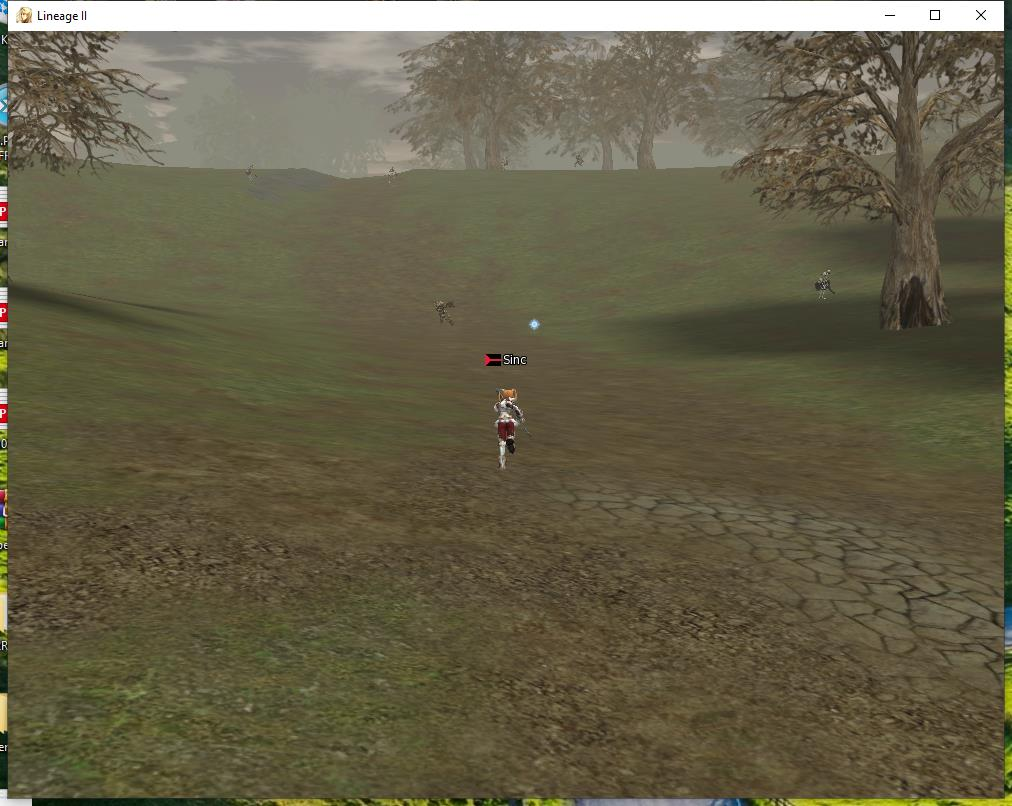monster: (430, 288, 469, 332), (806, 273, 848, 309)
